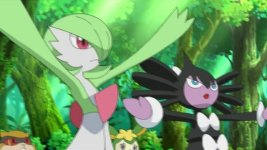gardevoir: (1, 1, 201, 150)
